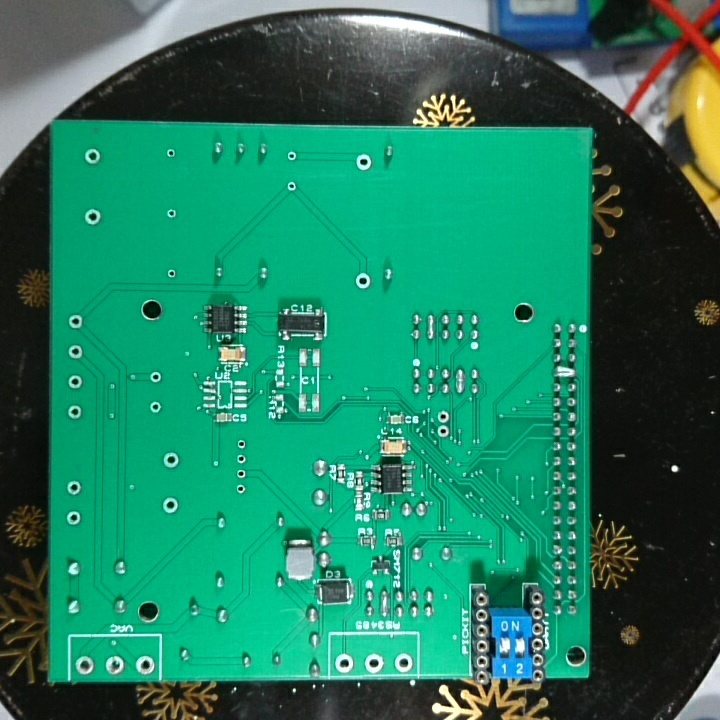F: (133, 652, 157, 678), (392, 651, 415, 676), (73, 653, 98, 675), (333, 653, 358, 675), (81, 146, 104, 169), (104, 652, 127, 675), (364, 652, 387, 675), (161, 449, 181, 475), (84, 206, 105, 230), (355, 269, 375, 294), (161, 494, 184, 515), (354, 150, 373, 175), (64, 508, 85, 529), (67, 341, 87, 362), (144, 395, 164, 416), (64, 478, 85, 498), (65, 403, 86, 422), (67, 311, 86, 331), (67, 373, 85, 392), (284, 176, 301, 196), (147, 369, 164, 388), (434, 423, 453, 440), (165, 204, 181, 223), (432, 409, 452, 424), (285, 149, 300, 166), (164, 146, 179, 163), (235, 436, 250, 451), (233, 465, 248, 480), (166, 266, 181, 280), (235, 452, 250, 466), (233, 482, 247, 495)
P: (550, 363, 579, 382), (424, 309, 438, 344), (455, 363, 467, 399), (379, 587, 390, 620)
